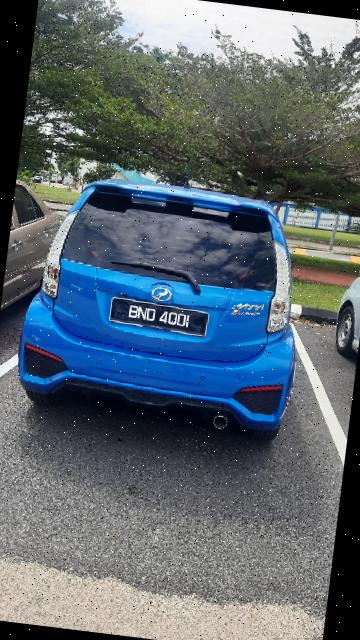License_Plate: (107, 294, 215, 340)
car: (6, 151, 322, 448)
